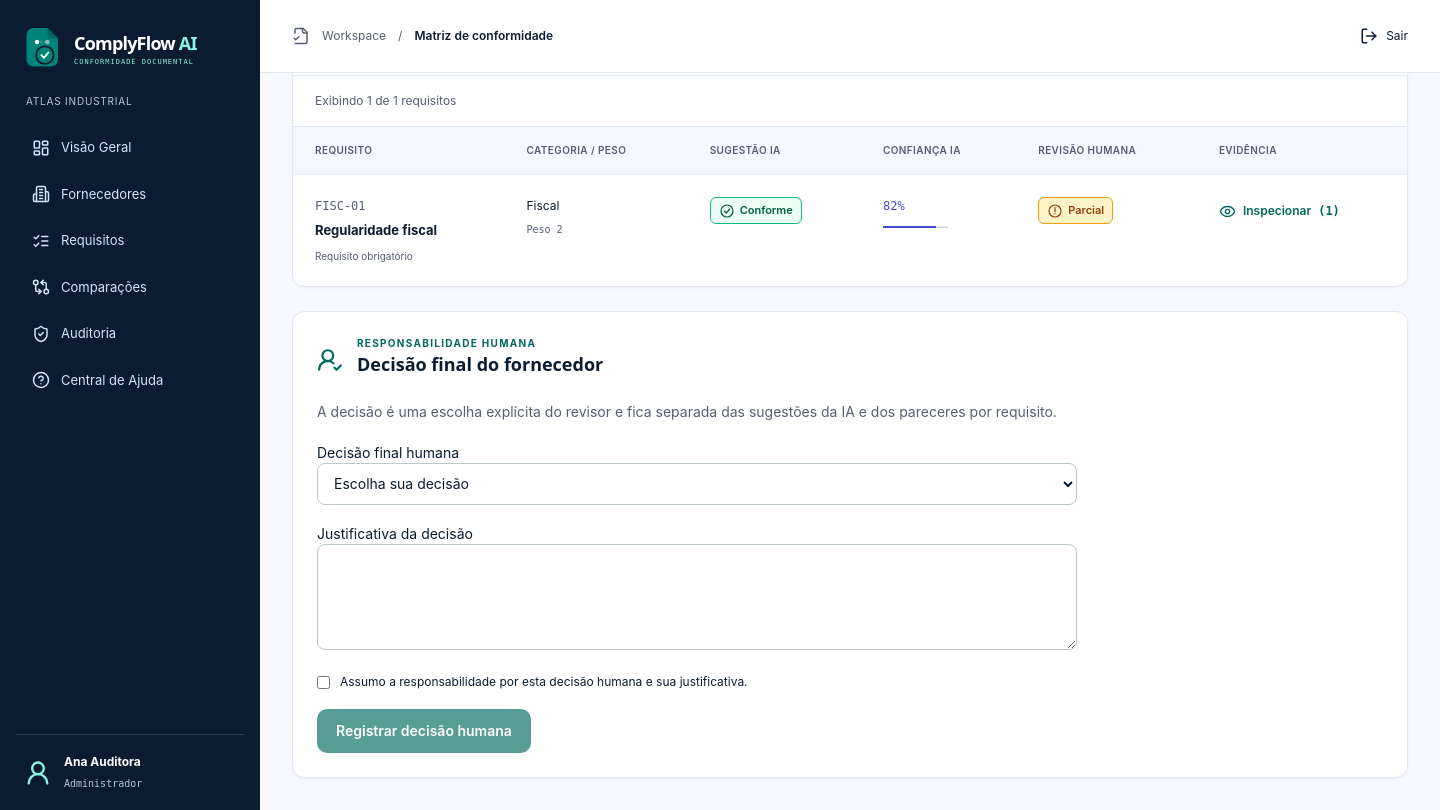
Test: Human decision journey › requires explicit decision and reason then persists an immutable human result with idempotency
(page scrolled)
Check: the button "Registrar decisão humana" is disabled, box [317,709,531,753]
Select "Condicionar" in the dropdown labelled "Decisão final humana". click: (697, 484)
box: [317,463,1077,505]
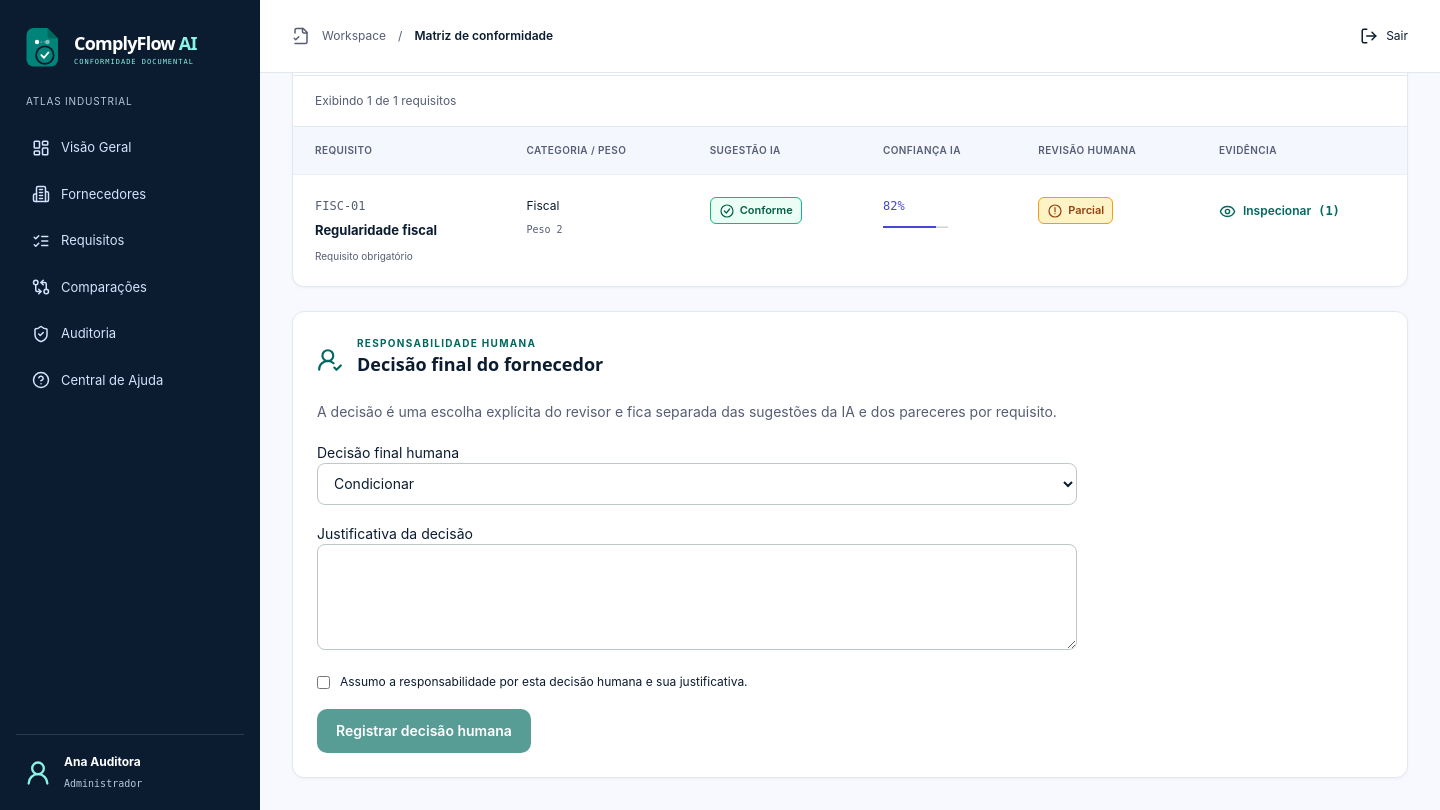
Type "Escopo limitado por revisão humana." into the text box labelled "Justificativa da decisão". click: (697, 597)
box: [317,544,1077,650]
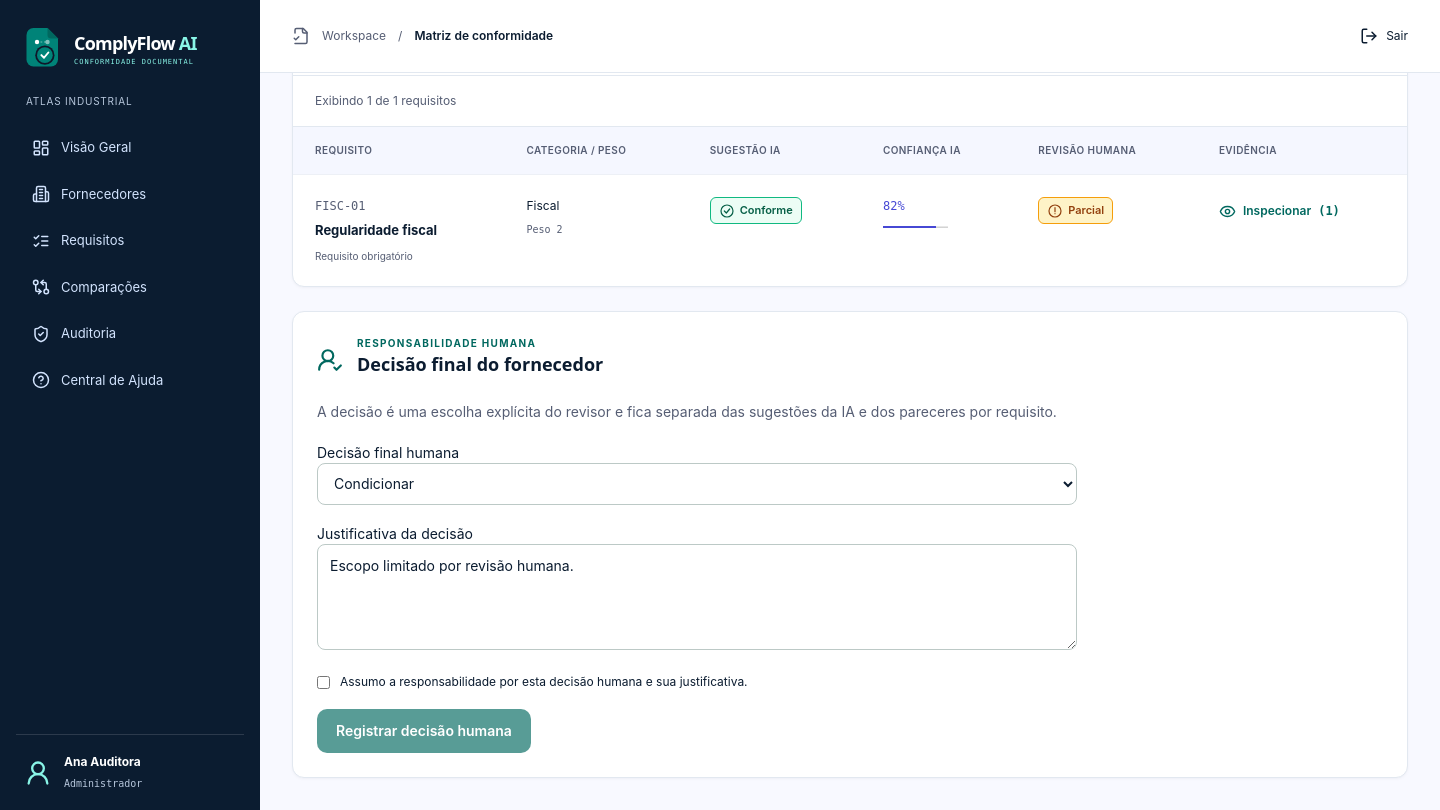
Click the checkbox labelled "Assumo a responsabilidade". click: (324, 682)
box: [317,676,330,689]
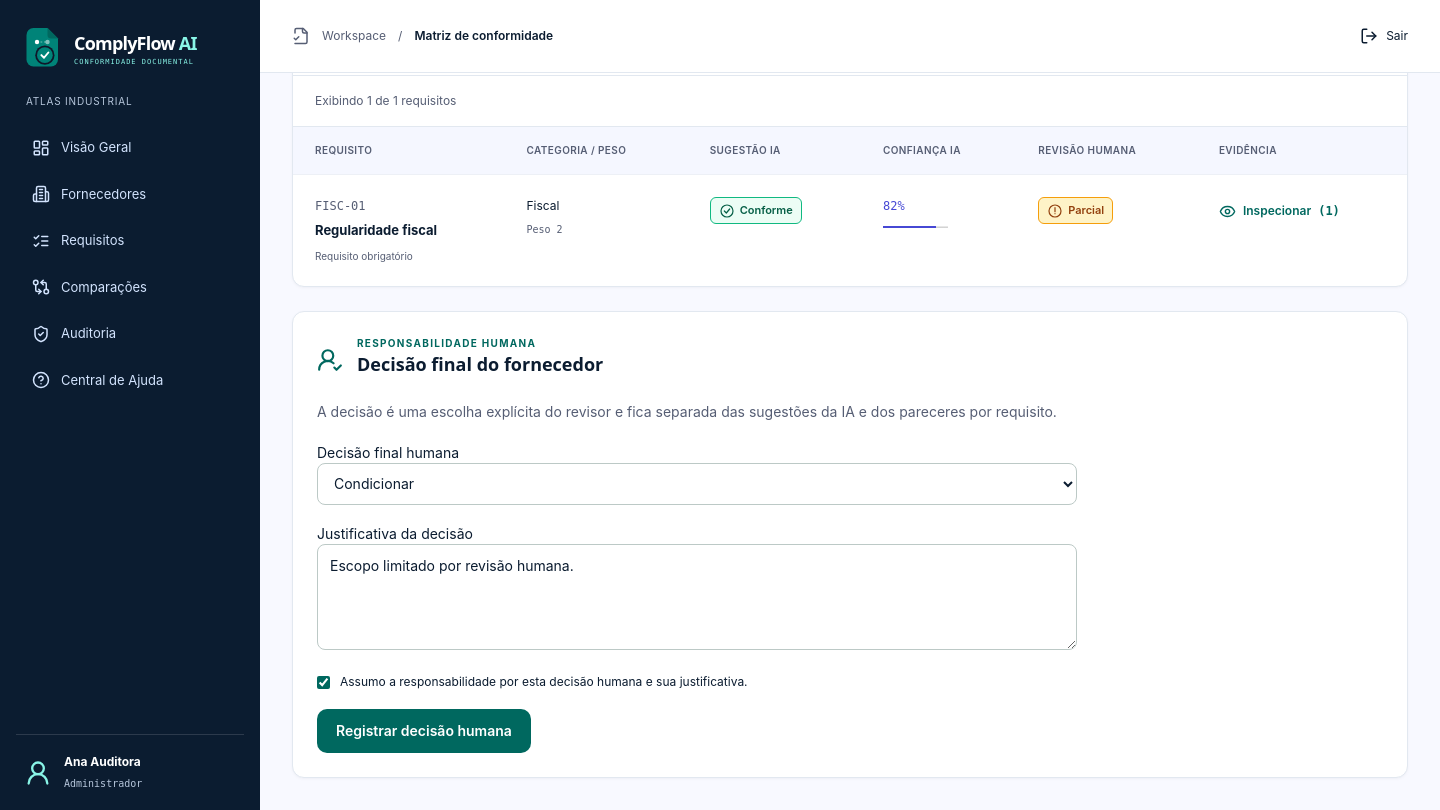
Click the button "Registrar decisão humana". click: (424, 731)
box: [317,709,531,753]
(page scrolled)
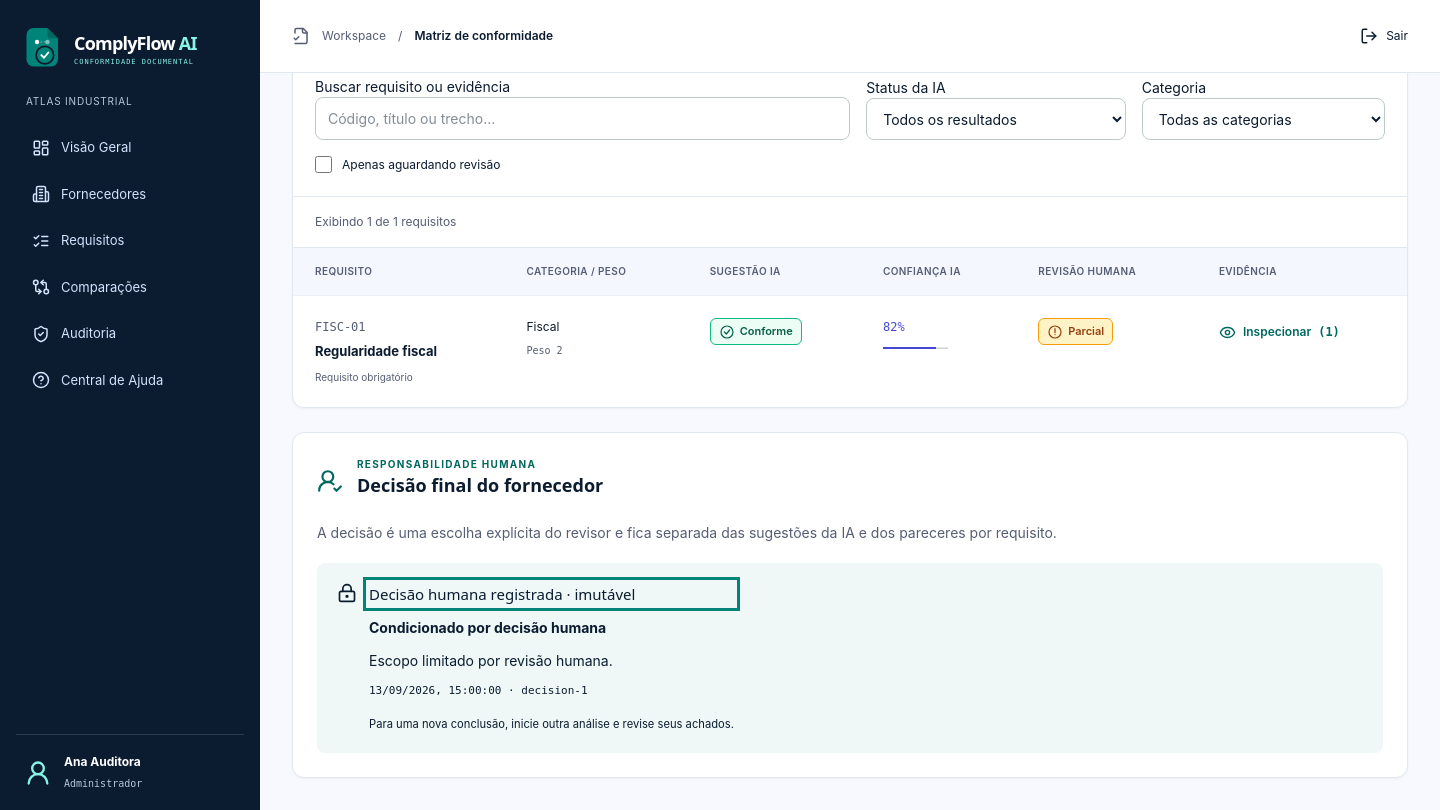
Check: the heading "Decisão humana registrada · imutável" is shown, box [369,584,635,604]
Check: the button "Registrar decisão humana" is gone
Click the button with aria-label "inspecionar FISC-01". click: (1279, 332)
box: [1219,318,1340,346]
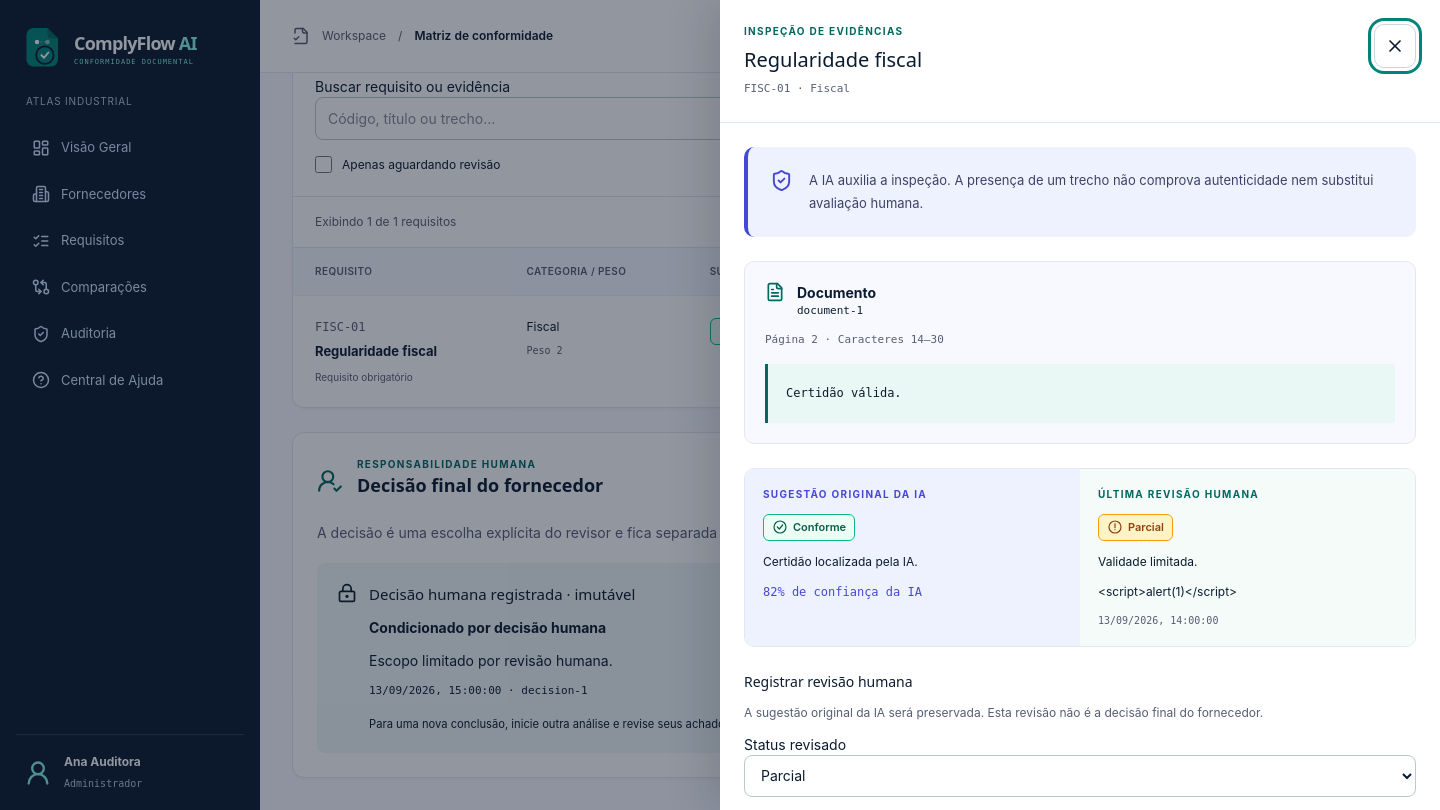
Check: the text "Certidão localizada pela IA." is shown, box [763,553,918,571]
